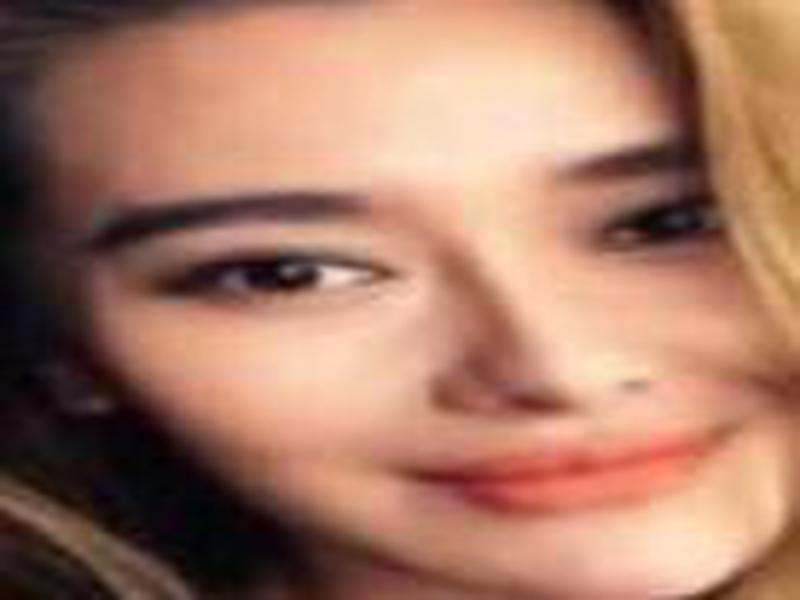without_mask: (41, 20, 800, 589)
